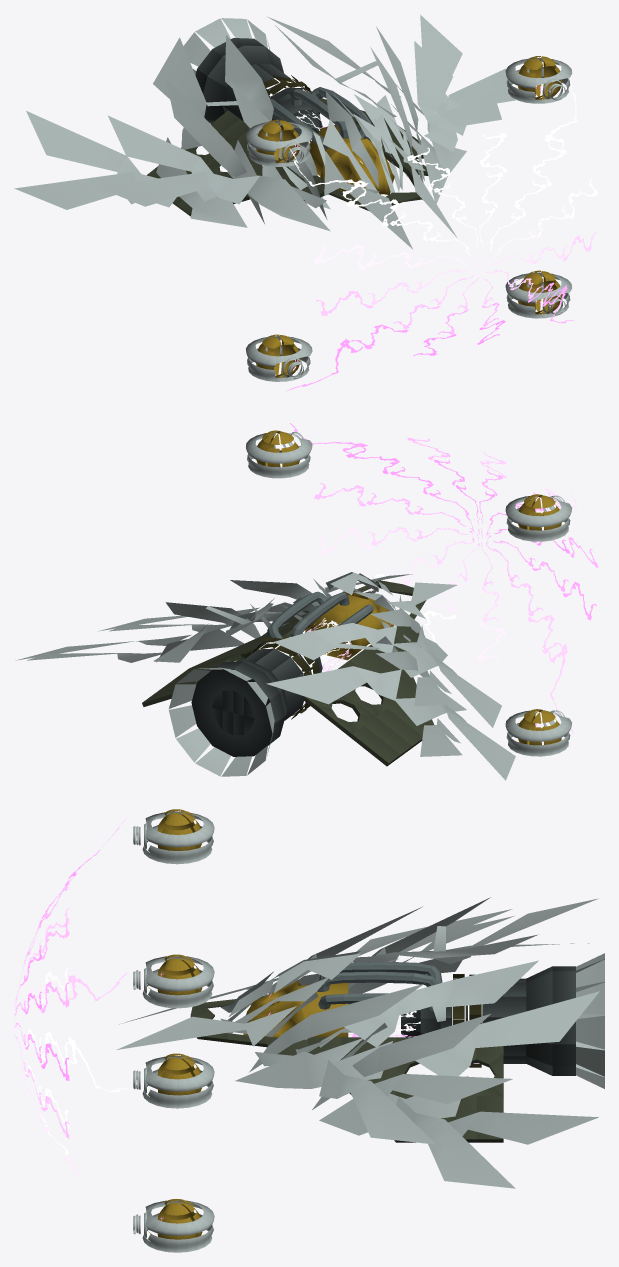
Rendered from EnemyShield.fbx.
3 views of the same model, one above another, from view 1: azimuth 30°, elevation 25°; view 2: azimuth 150°, elevation 25°; view 3: azimuth 270°, elevation 25° (orthographic). The views are drawn at different scales.
Parts seen in each view (by area): view 1: Cube.018, Plane.020, Cube.016, Cylinder.011, Cube.017, Cube.015, Cylinder.016, Cylinder.015; view 2: Cube.018, Cylinder.011, Cube.017, Plane.020, Cube.016, Cylinder.016, Cylinder.015, Cube.015, Cylinder.014; view 3: Cube.018, Plane.020, Cylinder.011, Cube.017, Cube.016, Cylinder.016, Cylinder.015, Cube.015.
Boxes of the visible parts, <box> form: Cube.018: <box>14,14,515,249</box>; Plane.020: <box>246,56,572,381</box>; Cube.016: <box>286,80,598,391</box>; Cylinder.011: <box>195,38,322,142</box>; Cube.017: <box>147,98,428,216</box>; Cube.015: <box>309,125,394,194</box>; Cylinder.016: <box>183,18,270,122</box>; Cylinder.015: <box>270,87,371,149</box>; Cube.018: <box>15,572,515,780</box>; Cylinder.011: <box>191,648,322,756</box>; Cube.017: <box>142,580,434,766</box>; Plane.020: <box>246,430,572,756</box>; Cube.016: <box>289,423,598,733</box>; Cylinder.016: <box>168,667,274,776</box>; Cylinder.015: <box>267,591,373,638</box>; Cube.015: <box>305,591,394,660</box>; Cylinder.014: <box>244,635,318,719</box>; Cube.018: <box>116,897,599,1188</box>; Plane.020: <box>133,809,214,1252</box>; Cylinder.011: <box>401,966,575,1075</box>; Cube.017: <box>190,996,503,1142</box>; Cube.016: <box>14,817,128,1245</box>; Cylinder.016: <box>576,953,604,1088</box>; Cylinder.015: <box>317,961,442,1011</box>; Cube.015: <box>243,981,348,1037</box>.
Bounding box in the file's own units: 15.09 × 7.5 × 13.8.
